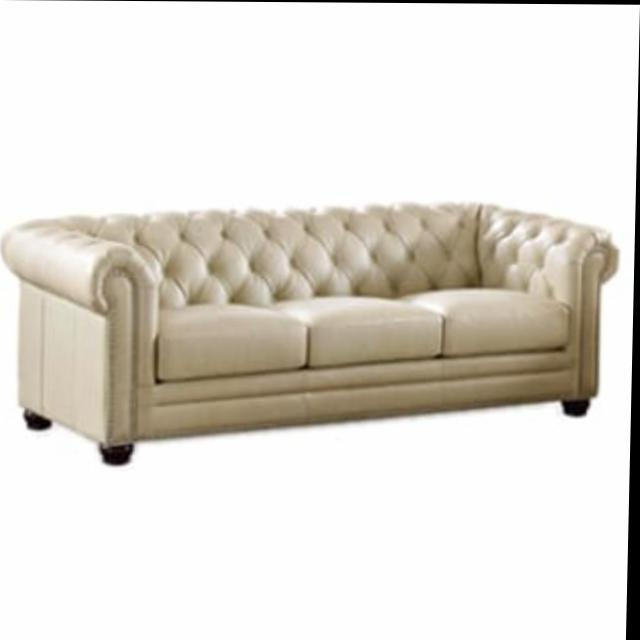Sofa: (0, 192, 623, 471)
